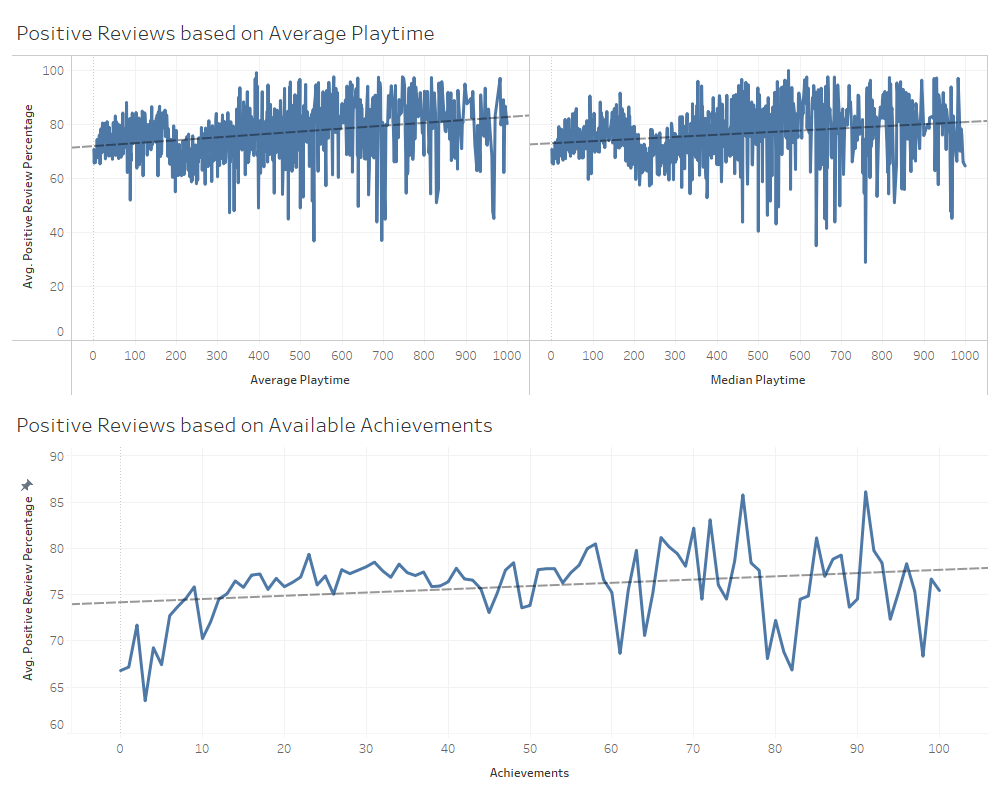

The page's visual inventory and layout, read from the dashboard file:
{"tool":"tableau","page":{"name":"Contents","canvas":[1000,800],"ordinal":0},"visuals":[{"type":"worksheet","title":"Playtime","mark":"Automatic","rows":["Calculation_786159644411617280"],"cols":["average_playtime","median_playtime"],"box":[8,8,984,392]},{"type":"worksheet","title":"Achievements","mark":"Automatic","rows":["Calculation_786159644411617280"],"cols":["achievements"],"box":[8,400,984,392]}]}

Visuals, with their boxes in screenshot pixels (x1, y1, x2, y2), scaled from the page's 1000x800 canvas onto the 1000x800 screenshot:
"Playtime" worksheet: BBox(8, 8, 992, 400)
"Achievements" worksheet: BBox(8, 400, 992, 792)
